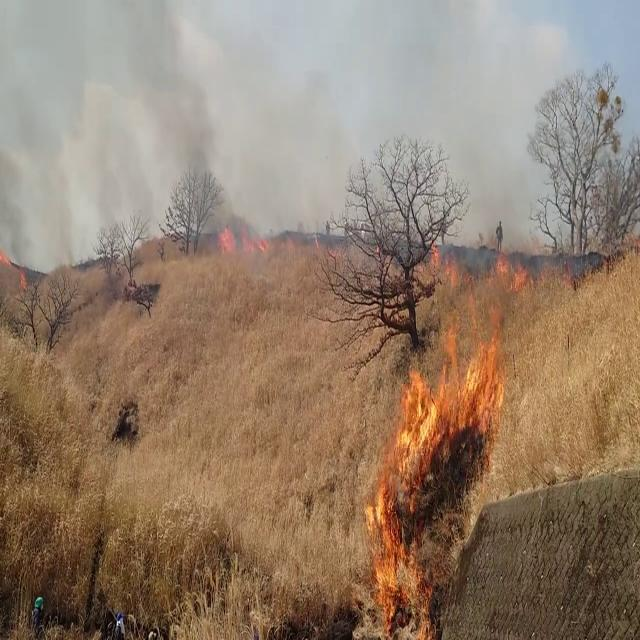Fire: (396, 283, 506, 481), (361, 416, 434, 634), (0, 234, 12, 273)
Smoke: (1, 1, 248, 264)
